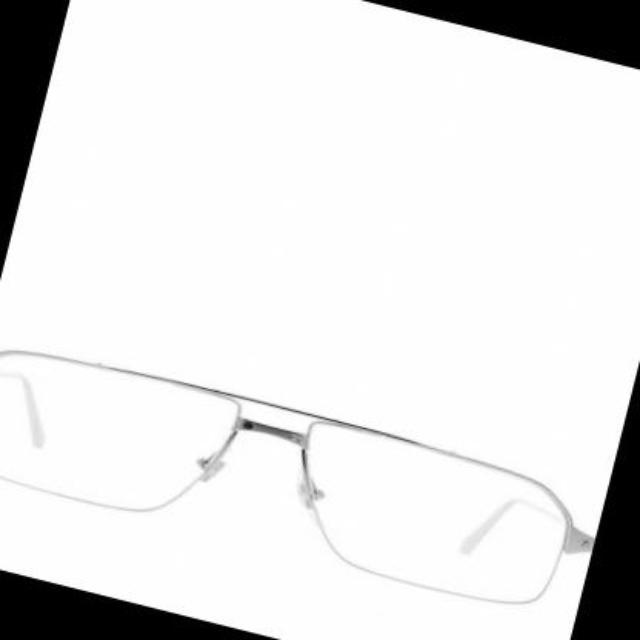glasses: (13, 348, 545, 605)
